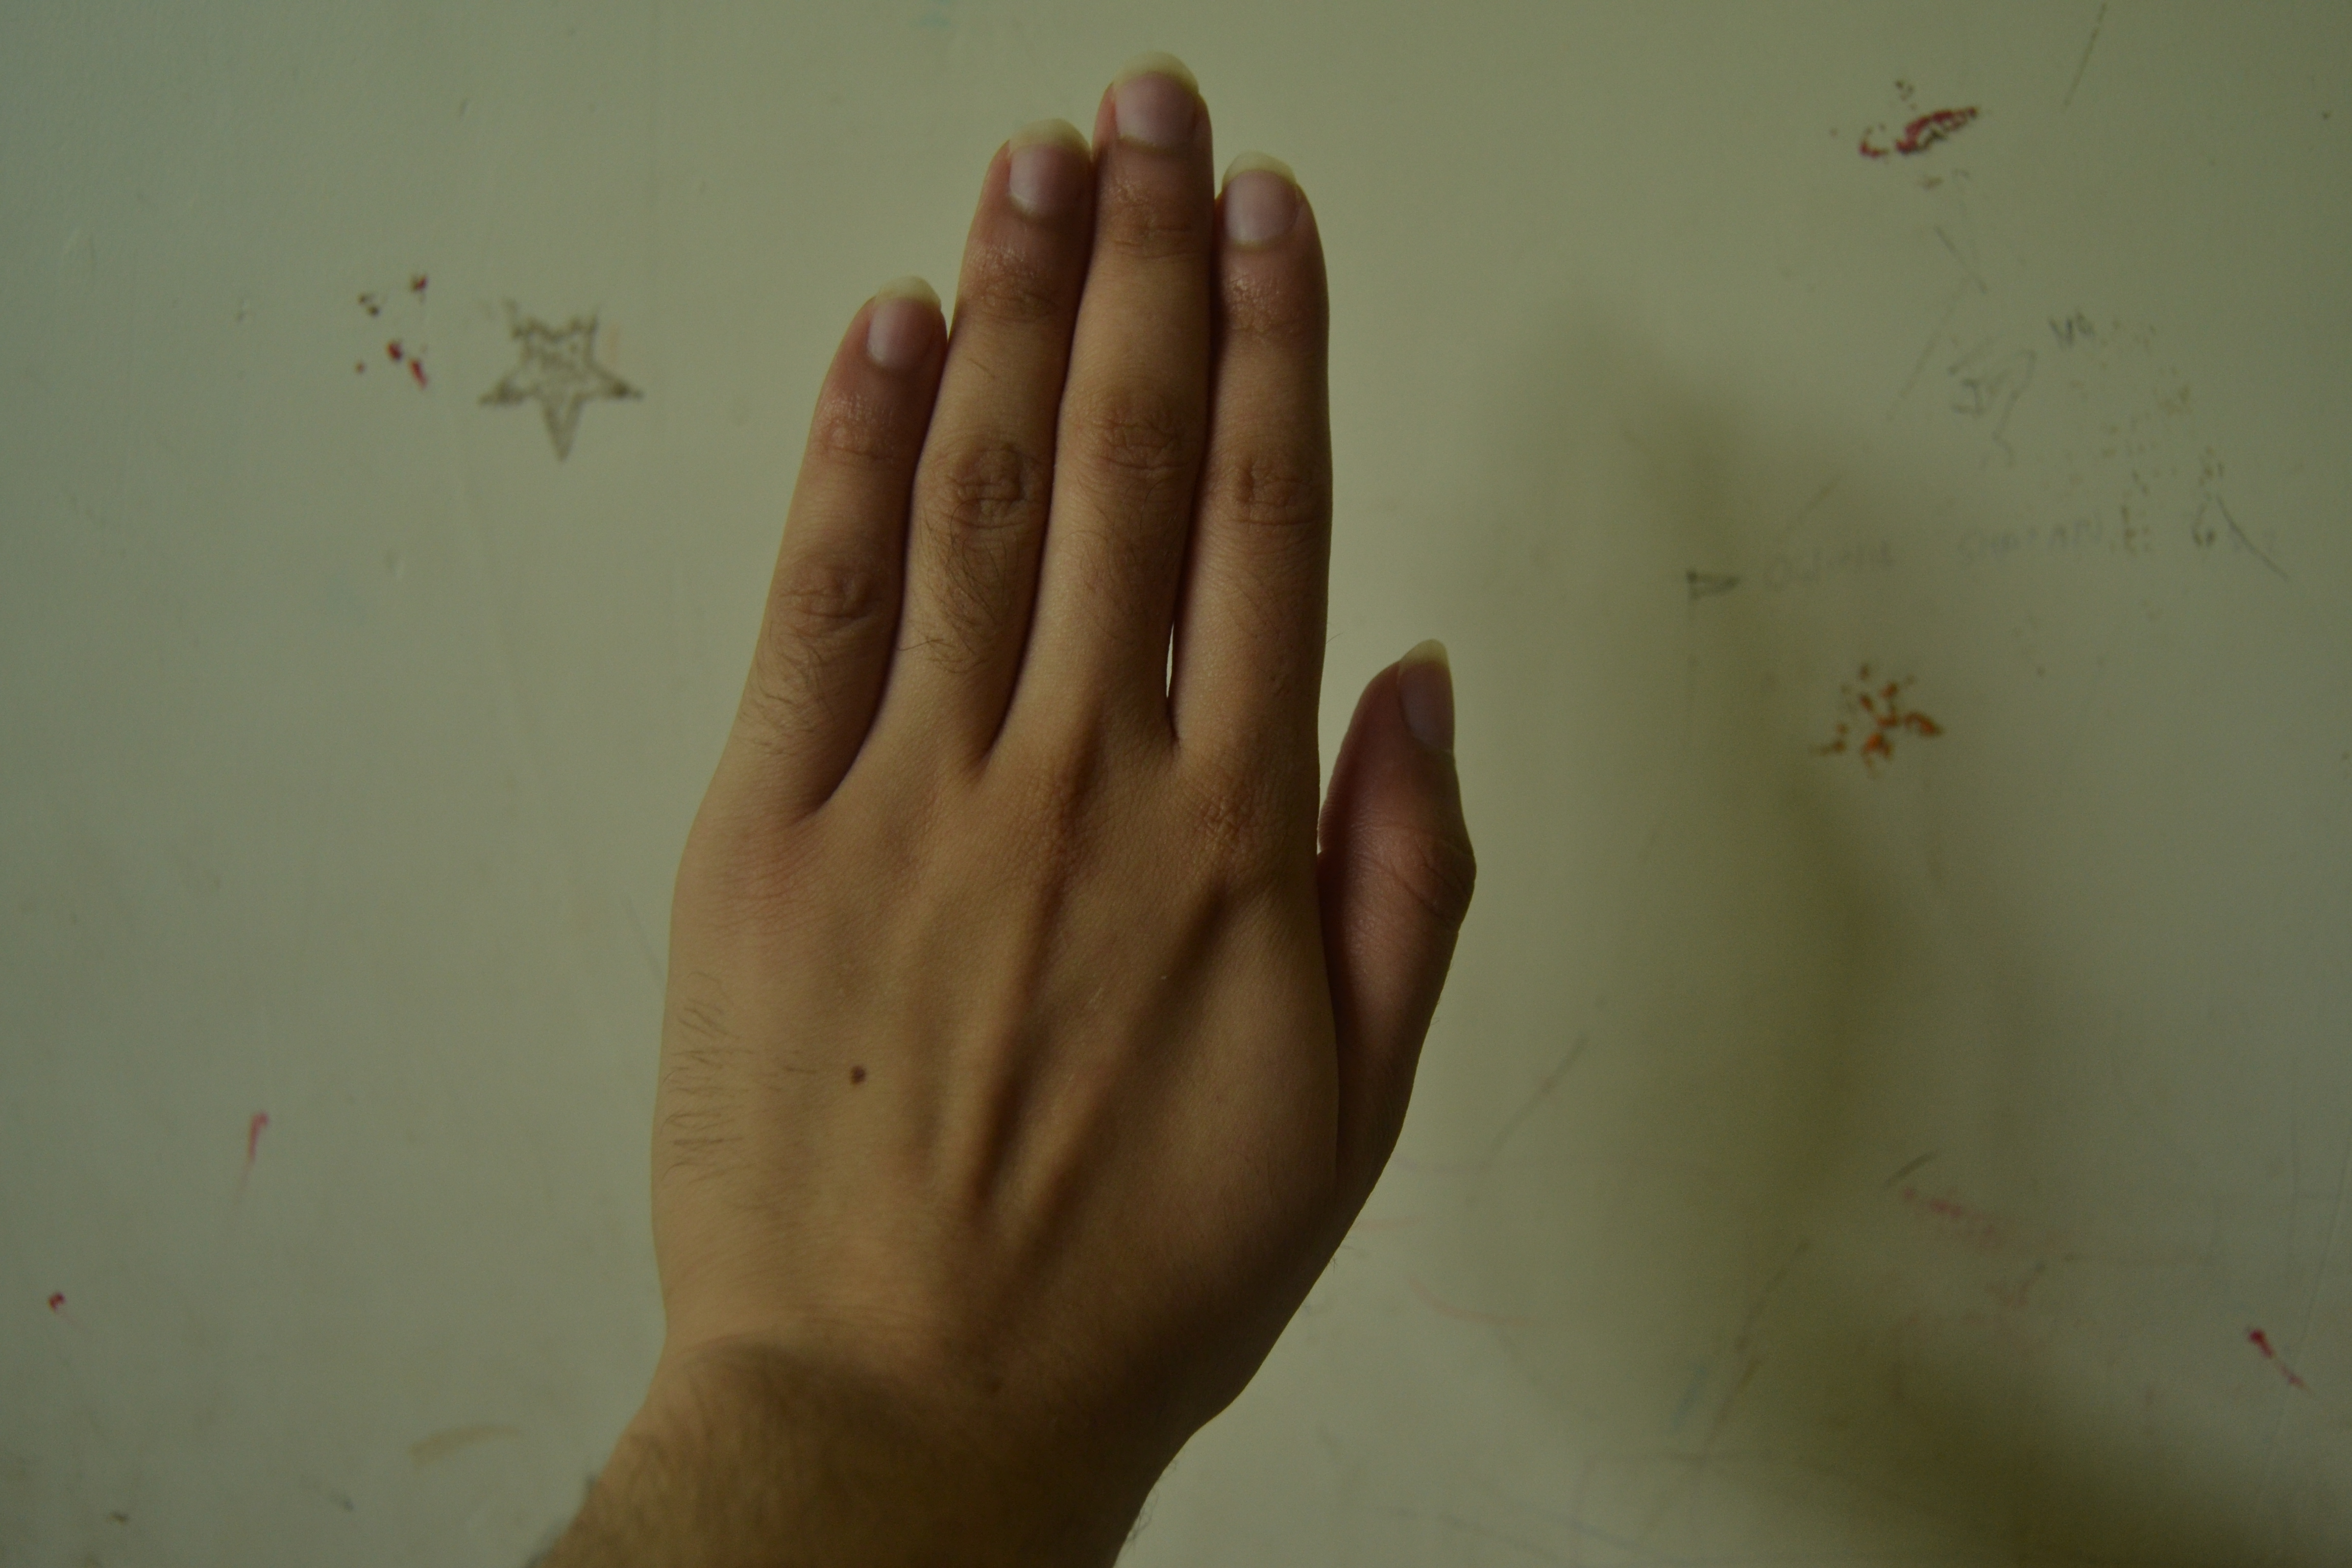move: (642, 9, 1547, 1531)
